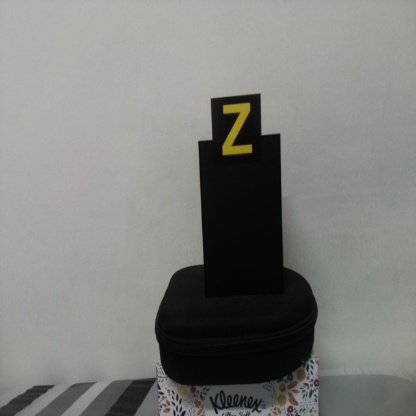id_15: (211, 98, 261, 165)
